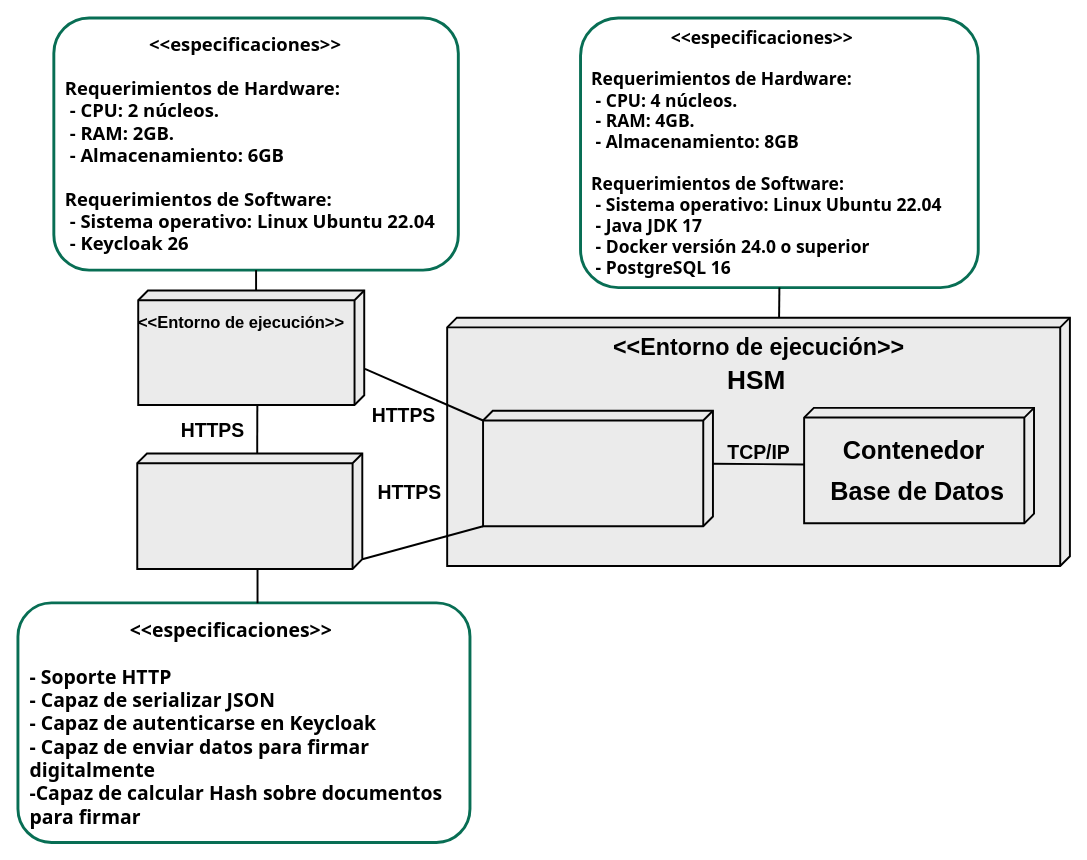
Some shapes in this 1087 by 860 pixel diagram are drawn without their labels. The shapes that lost their labels are listed below. From the top down, each one's box as (x1, y1, x2, y2) in pixels, then its label:
(137, 289, 365, 405): Keycloak
(482, 409, 713, 527): Contenedor API
(136, 452, 363, 569): Cliente
